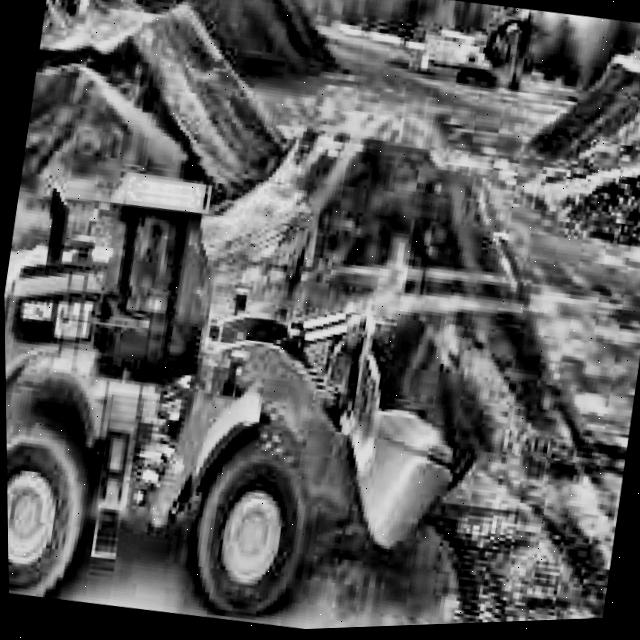buldozerpayloadergrader: (2, 136, 510, 640)
excavator: (448, 3, 532, 98)
